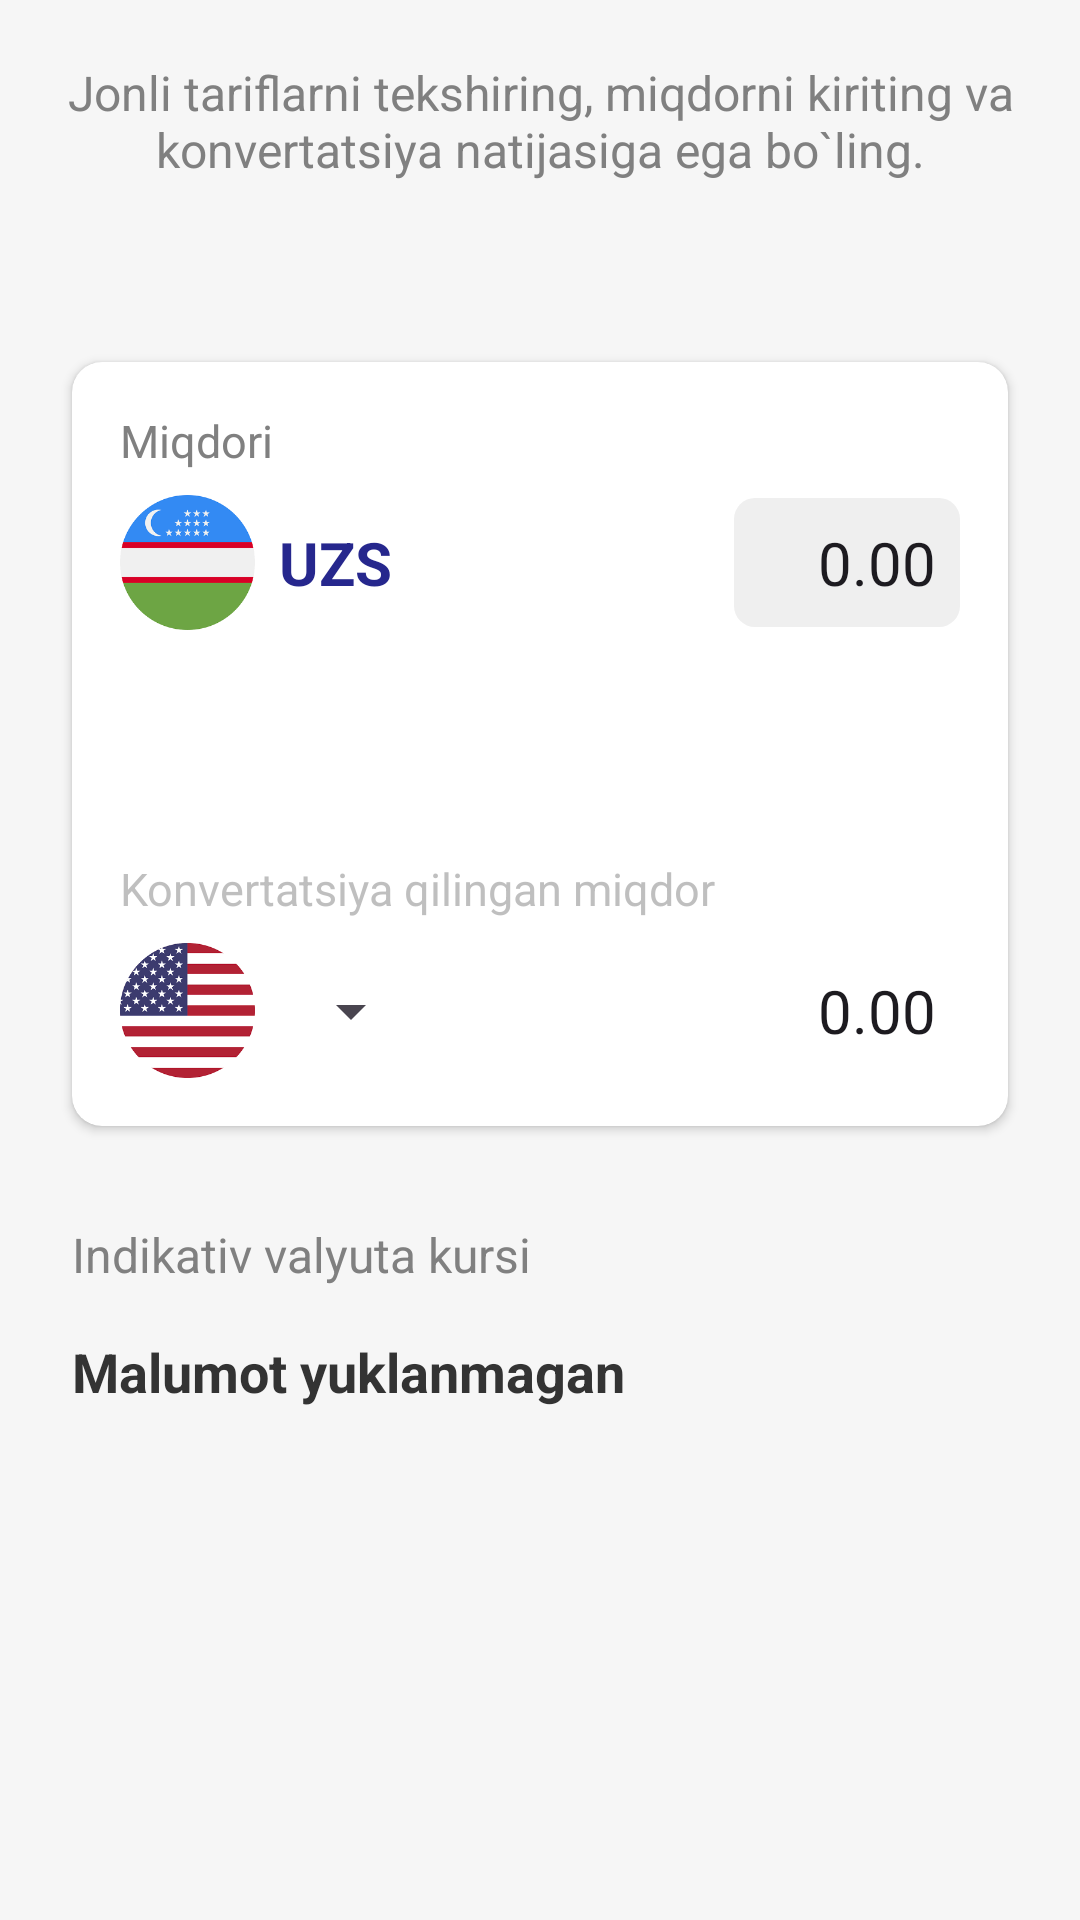

Icon bounding boxes for this 1080w x 1920h phone screenshot, format rect(x1, y1, x2, y2):
uzbekistan: rect(121, 495, 254, 630)
